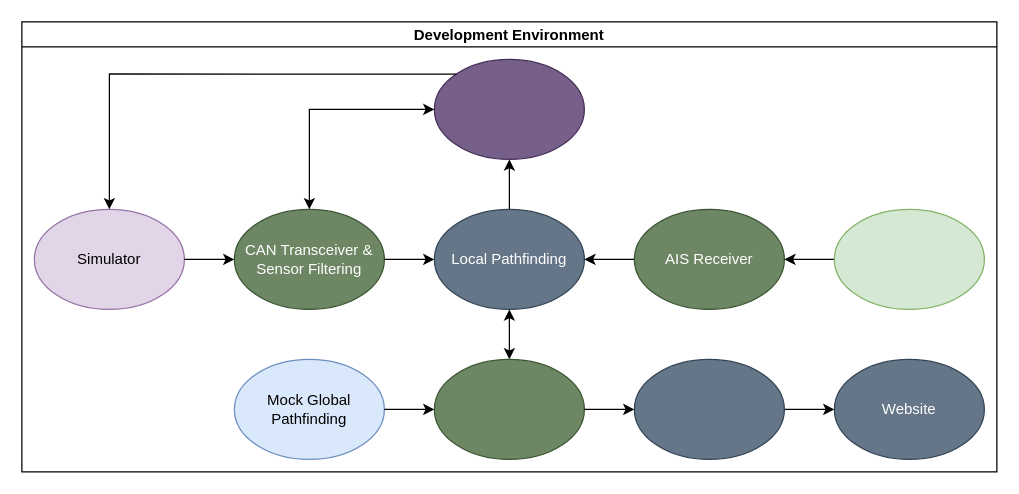
Some shapes in this 1019 by 494 pixel diagram are drawn without their labels. The box of each missing label's shape, as (x1, y1, x2, y2) in pixels:
Controller: (433, 58, 584, 159)
Database: (633, 358, 784, 459)
Local Transceiver: (433, 358, 584, 459)
Mock AIS: (833, 208, 984, 309)
